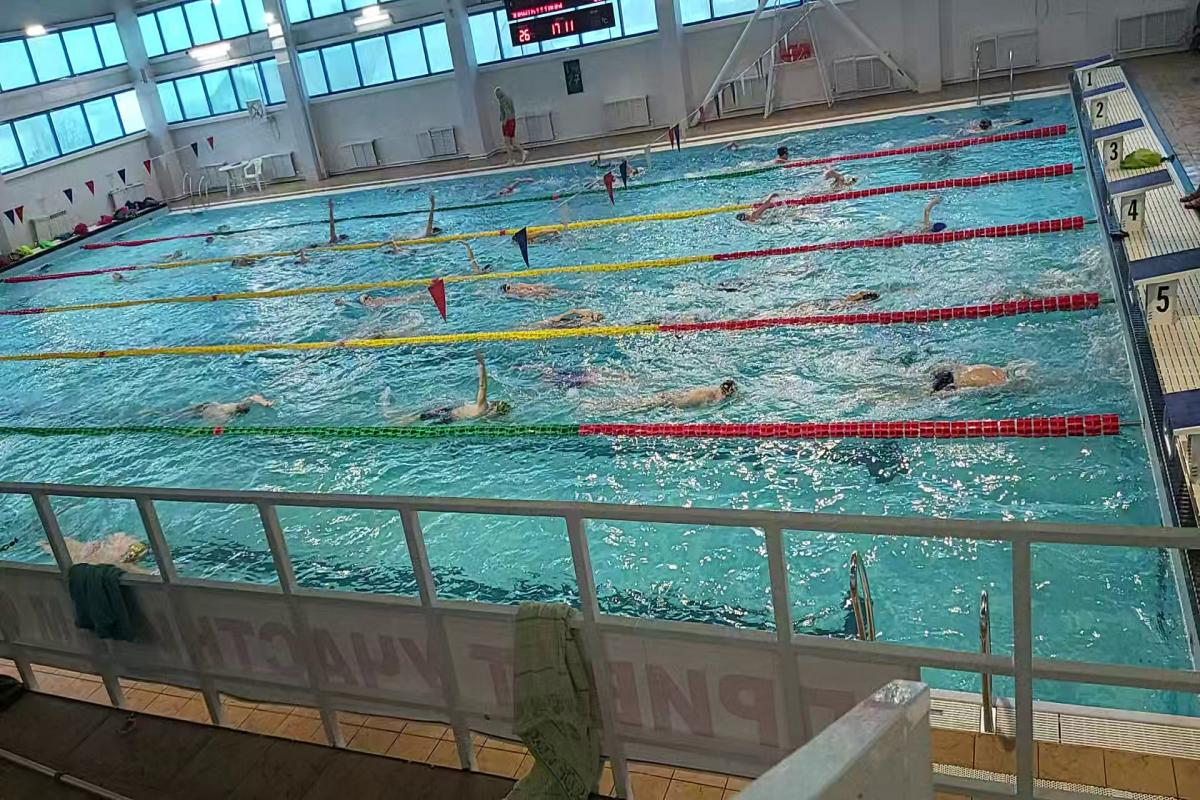swimmer: (894, 332, 1040, 406), (392, 370, 520, 424), (618, 377, 753, 419), (189, 380, 280, 423), (76, 527, 154, 569), (532, 300, 616, 330), (350, 286, 428, 310), (736, 192, 787, 228), (497, 276, 567, 301), (903, 201, 958, 230), (316, 201, 353, 243), (454, 245, 498, 275), (817, 167, 862, 192), (421, 202, 450, 238), (223, 249, 267, 270), (282, 247, 325, 266), (375, 237, 411, 259)
